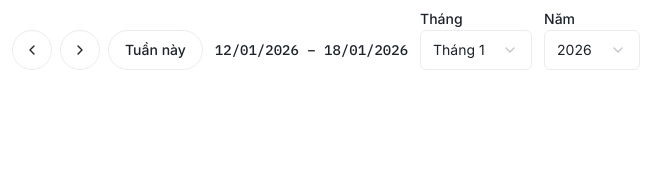
Test: bộ lọc tháng/năm › chọn Năm 2027 rồi đọc lại: Tháng 1/2027 và 3 năm lựa chọn dịch theo năm mới
The image size is (659, 172).
Select "2027" in the dropdown labelled "Năm". click: (592,50)
box: [544,30,640,70]
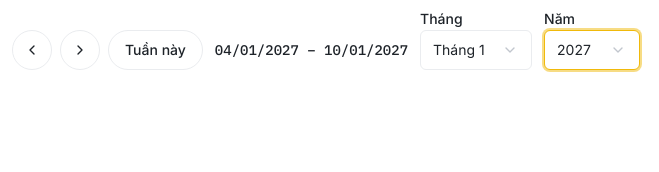
Expected: the dropdown labelled "Tháng" shows "Tháng 1", [420,30,532,70]
Now the text "04/01/2027 – 10/01/2027" is shown, box [215,41,408,59]
